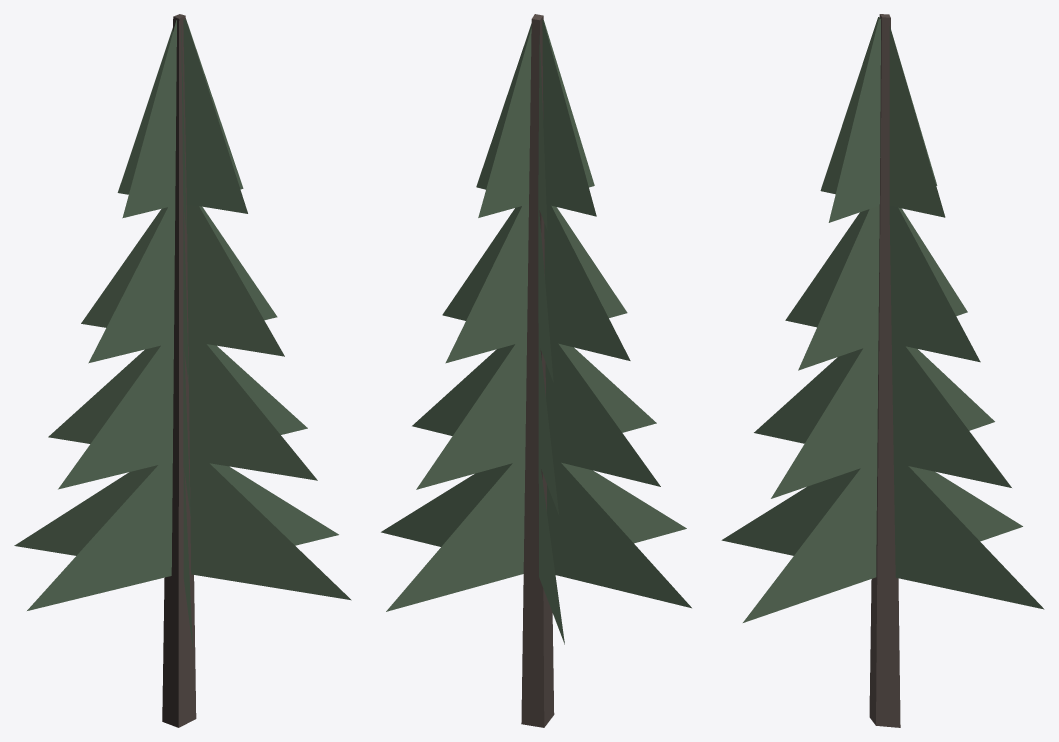
File: FakeTree.glb
3 renders of one model, left to right at view 1: azimuth 30°, elevation 25°; view 2: azimuth 150°, elevation 25°; view 3: azimuth 270°, elevation 25°, orthographic.
Visible parts, largest first — view 1: Leaves, Trunk; view 2: Leaves, Trunk; view 3: Leaves, Trunk.
Part boxes in pixels (left/top/right/bottom): Leaves: left=14, top=18, right=351, bottom=647; Trunk: left=162, top=14, right=196, bottom=727; Leaves: left=381, top=19, right=691, bottom=644; Trunk: left=521, top=14, right=554, bottom=727; Leaves: left=721, top=17, right=1044, bottom=622; Trunk: left=869, top=14, right=900, bottom=727.
Bounding box in the file's own units: 4.65 × 10.04 × 4.15.
